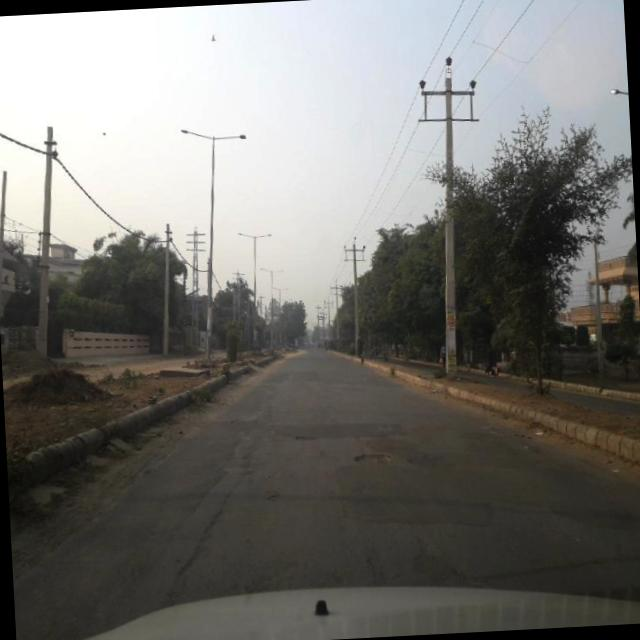crack: (162, 458, 255, 588)
pothole: (348, 446, 395, 466)
